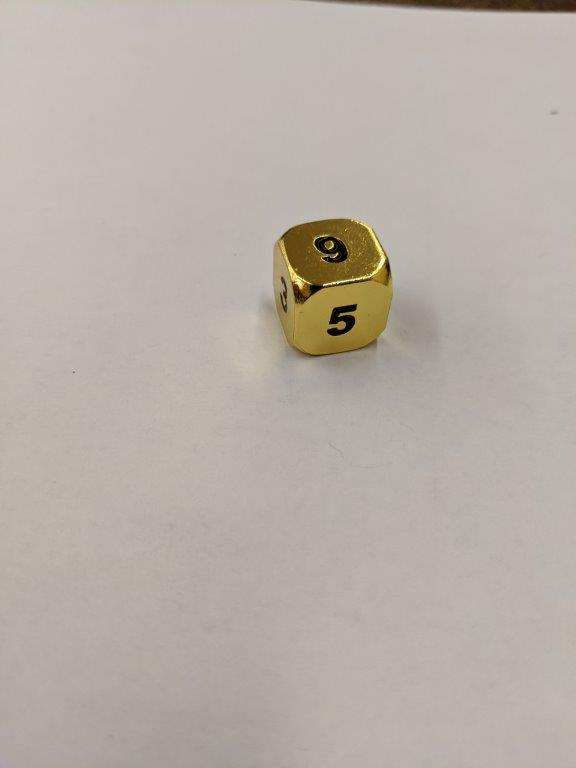d6-6: (271, 214, 394, 358)
